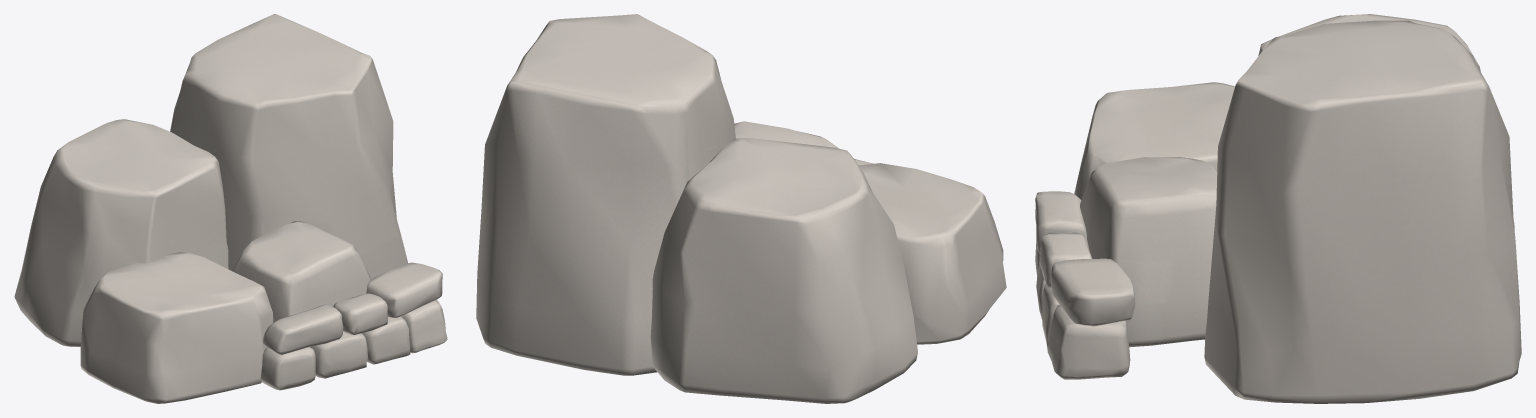
The model's file is ground_dressing.glb.
The picture shows the model from 3 angles, left to right: view 1: azimuth 30°, elevation 25°; view 2: azimuth 150°, elevation 25°; view 3: azimuth 270°, elevation 25°; orthographic projection. The views are drawn at different scales.
Bounding box in the file's own units: 1 × 0.6191 × 0.9297.
Materials: 1 (1 with a texture image).
